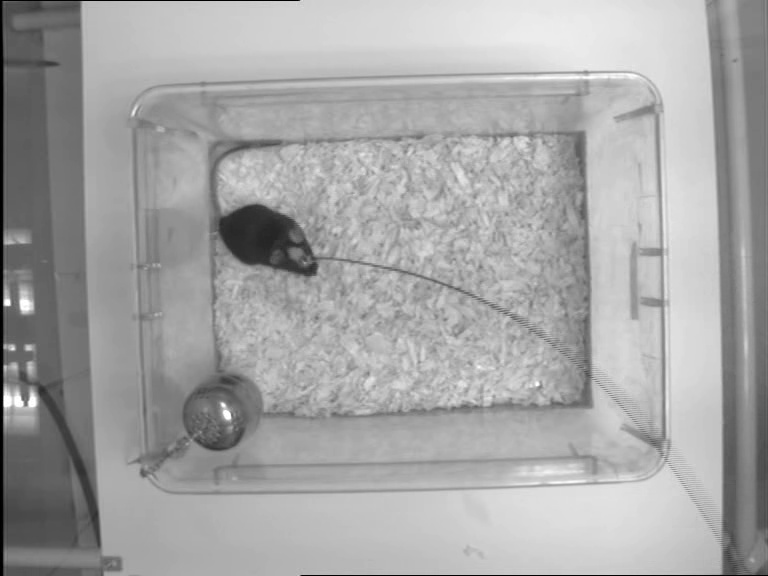mice: (204, 137, 321, 279)
